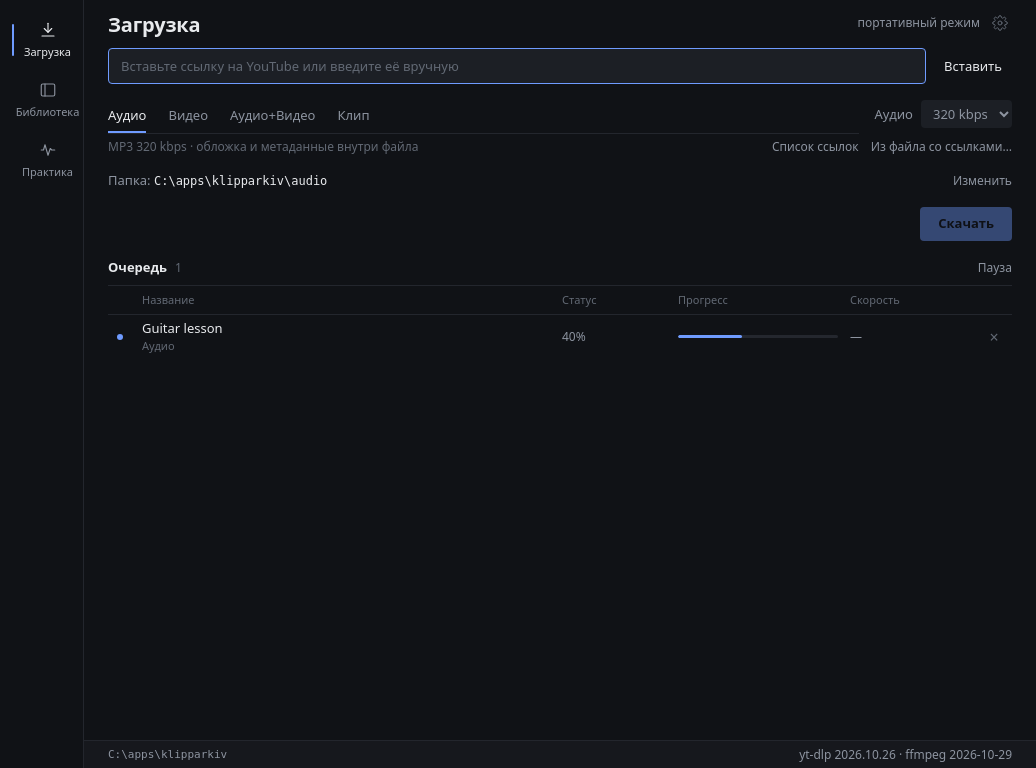
Scenario: App › keeps the download queue when the user switches screens
Expected: the text "40%" is shown, [562,328,586,345]
Step 1. Click the button "Библиотека" → (48, 100), box [12,72,83,128]
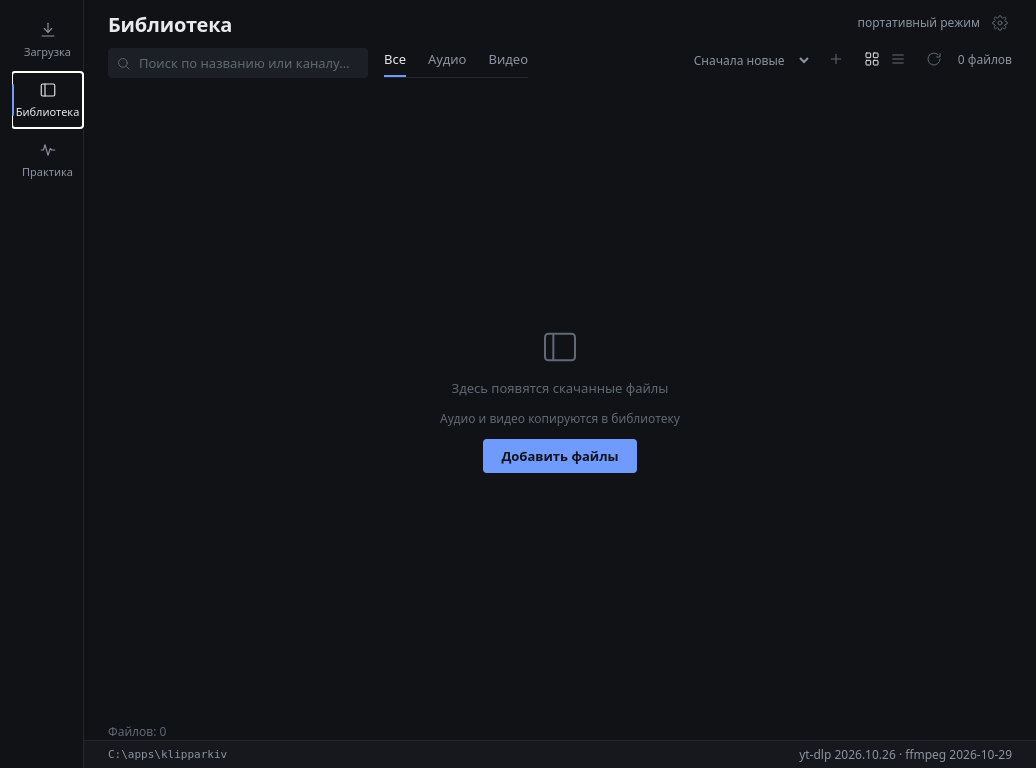
Result: the heading "Библиотека" is shown at [108,10,232,38]
Step 2. Click the button "Загрузка" → (48, 40), box [12,12,83,68]
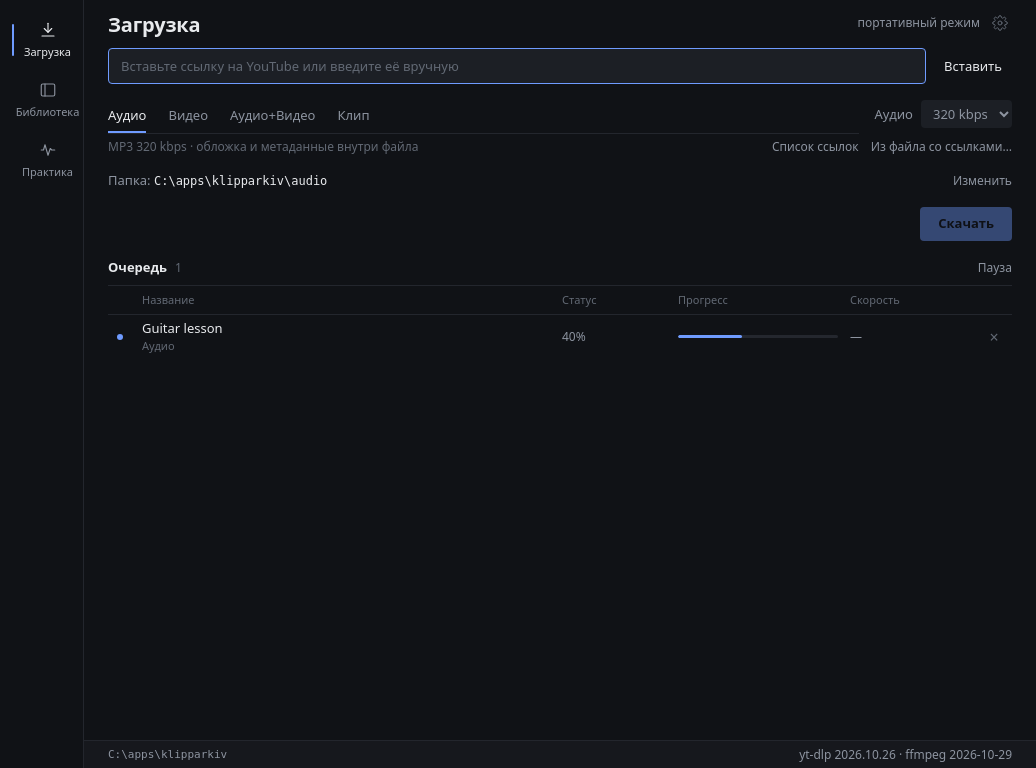
Result: the text "40%" is shown at [562,328,586,345]
Result: the text "Guitar lesson" is shown at [142,319,223,337]
